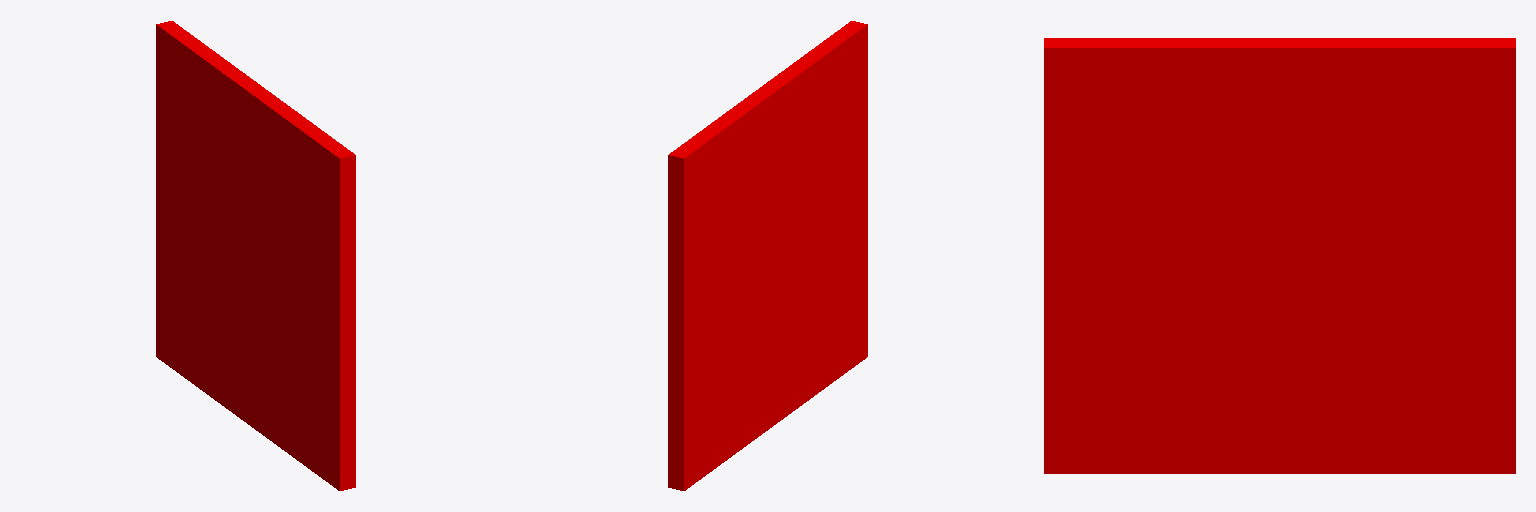
The robot description file, URDF, robot "red_panel":
<?xml version="1.0" ?>
<!-- Flat bright-red panel for camera-geometry behavioral tests (URDF; IsaacSim).
     URDF box size is the FULL extent: 0.02 x 0.4 x 0.4 m (thin in X, 0.4 m in Y and Z),
     matching red_panel.xml's 0.01/0.2/0.2 MJCF half-extents. Pure red so the panel
     silhouette is trivially segmentable from the background. -->
<robot name="red_panel">
  <link name="baseLink">
    <inertial>
      <mass value="0.1"/>
      <origin xyz="0 0 0"/>
      <inertia ixx="0.0002" ixy="0" ixz="0" iyy="0.0002" iyz="0" izz="0.0002"/>
    </inertial>
    <visual>
      <origin rpy="0 0 0" xyz="0 0 0"/>
      <geometry><box size="0.02 0.4 0.4"/></geometry>
      <material name="red"><color rgba="1 0 0 1"/></material>
    </visual>
    <collision>
      <origin rpy="0 0 0" xyz="0 0 0"/>
      <geometry><box size="0.02 0.4 0.4"/></geometry>
    </collision>
  </link>
</robot>

--- What the picture shows (computed from the rendered views, not written in the file) ---
Views: 3 orthographic renders of the robot side by side, from view 1: azimuth 30°, elevation 25°; view 2: azimuth 150°, elevation 25°; view 3: azimuth 270°, elevation 25°.
Model red_panel with 1 links and 0 joints (none), rooted at baseLink, posed every joint at zero.
Visible links, largest first — view 1: baseLink; view 2: baseLink; view 3: baseLink.
Link boxes in pixels (left/top/right/bottom): baseLink: left=156, top=21, right=355, bottom=490; baseLink: left=668, top=21, right=867, bottom=490; baseLink: left=1044, top=38, right=1515, bottom=473.
Size in the robot's own frame: 0.02 by 0.4 by 0.4 metres.
Geometry: primitives only (box / cylinder / sphere), no mesh files.
